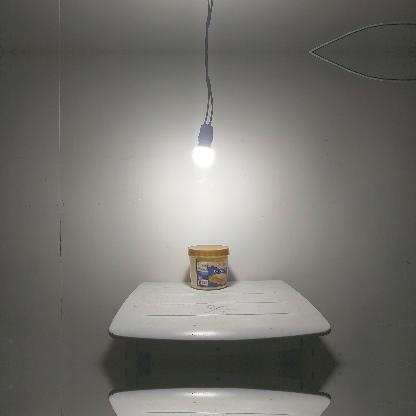Lady-s-Choice: (187, 245, 229, 290)
